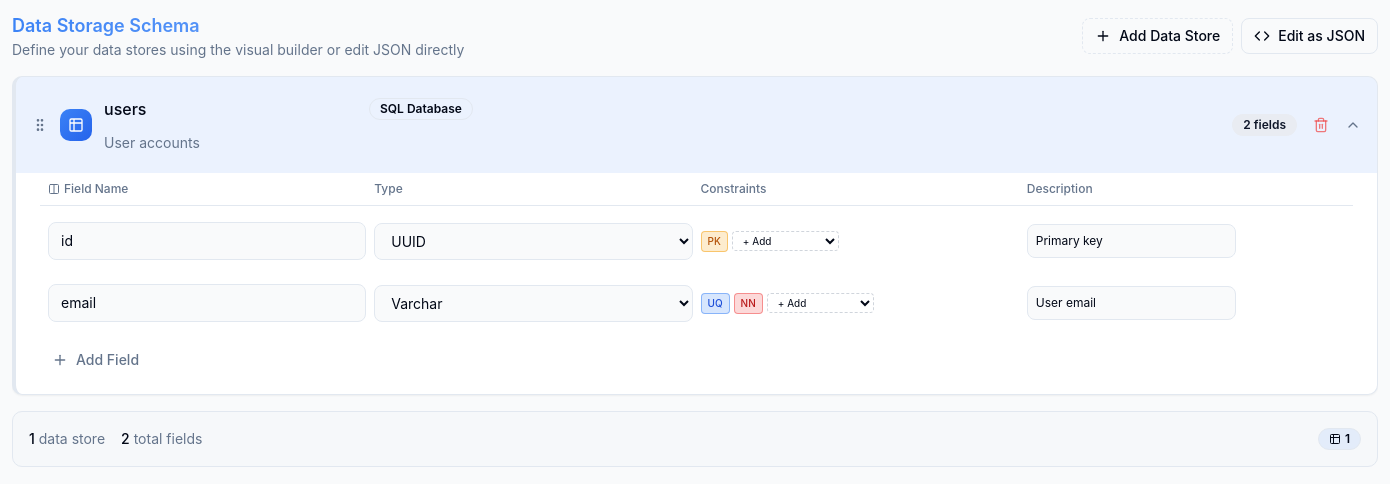
Test case: SchemaEditor › Store Operations › removes store when delete button is clicked
The width and height of the screenshot is (1390, 484).
Click the 3rd button at x=1321, y=125, box [1305, 109, 1337, 141]
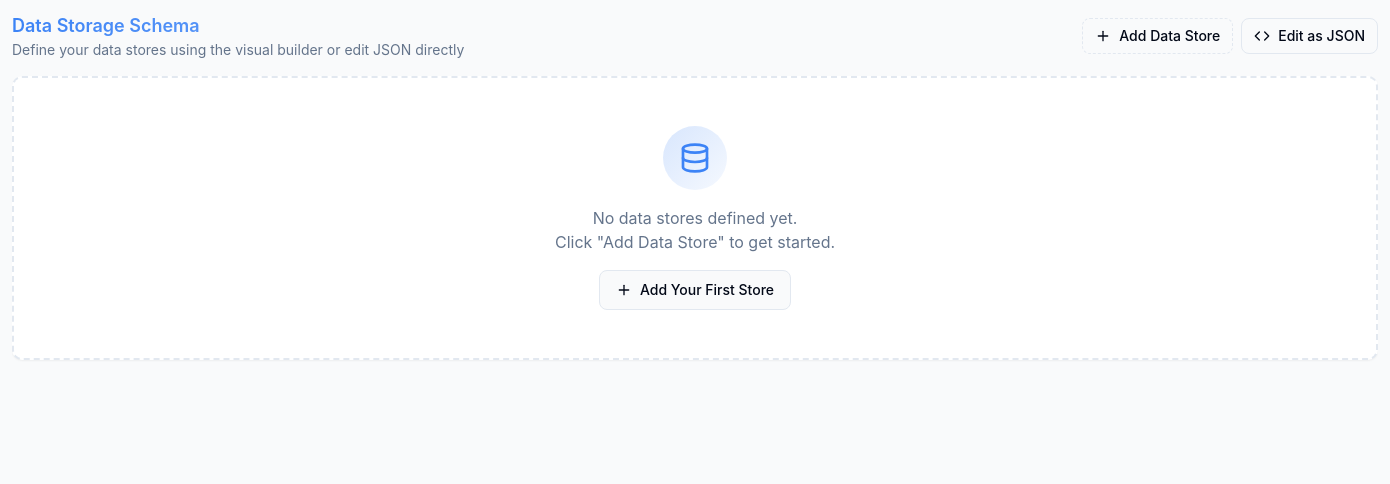
Check: the text "No data stores defined yet" is shown, box [593, 208, 797, 228]
